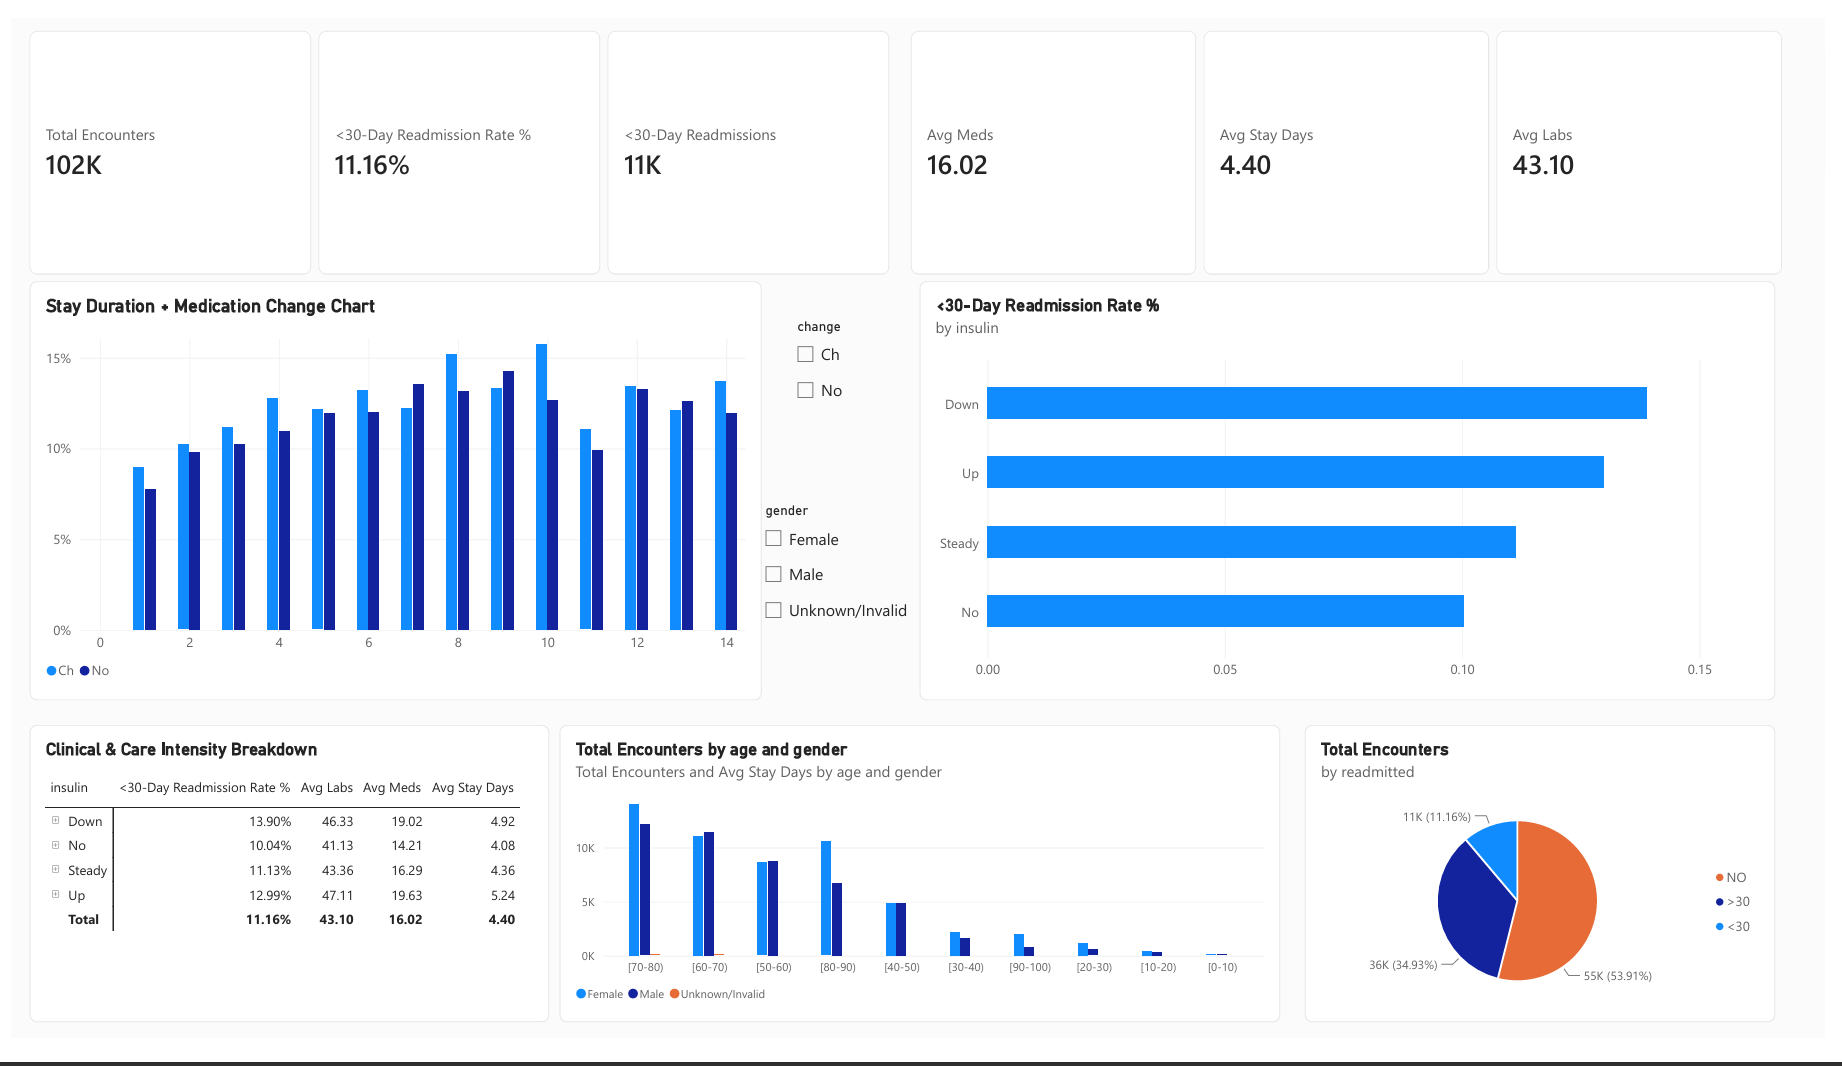

This screenshot's page, from the dashboard's own definition file:
{"tool":"powerbi","page":{"name":"Page 1","canvas":[1920,1080],"ordinal":0},"visuals":[{"type":"cardVisual","fields":{"Data":["vw_hospital_admissions_clean.Total Encounters","vw_hospital_admissions_clean.<30-Day Readmission Rate %","vw_hospital_admissions_clean.<30-Day Readmissions","select"]},"box":[18.8,12.5,910.4,258.3],"z":0},{"type":"cardVisual","fields":{"Data":["vw_hospital_admissions_clean.Avg Meds","vw_hospital_admissions_clean.Avg Stay Days","vw_hospital_admissions_clean.Avg Labs"]},"box":[952.1,12.5,922.9,258.3],"z":1000},{"type":"clusteredColumnChart","title":"Stay Duration + Medication Change Chart","fields":{"Category":["vw_hospital_admissions_clean.time_in_hospital"],"Series":["vw_hospital_admissions_clean.change"],"Y":["vw_hospital_admissions_clean.<30-Day Readmission Rate %"]},"box":[18.5,277.8,775.9,444.4],"z":1001},{"type":"pivotTable","title":"Clinical & Care Intensity Breakdown","fields":{"Rows":["vw_hospital_admissions_clean.insulin","vw_hospital_admissions_clean.A1Cresult"],"Values":["vw_hospital_admissions_clean.<30-Day Readmission Rate %","vw_hospital_admissions_clean.Avg Labs","vw_hospital_admissions_clean.Avg Meds","vw_hospital_admissions_clean.Avg Stay Days"]},"box":[18.5,748.1,550,314.8],"z":1002},{"type":"slicer","fields":{"Values":["vw_hospital_admissions_clean.change"]},"box":[824.2,317.7,104.8,96.8],"z":1003},{"type":"clusteredBarChart","fields":{"Category":["vw_hospital_admissions_clean.insulin"],"Y":["vw_hospital_admissions_clean.<30-Day Readmission Rate %"]},"box":[961.1,277.8,905.6,444.4],"z":1004},{"type":"slicer","fields":{"Values":["vw_hospital_admissions_clean.gender"]},"box":[790.3,512.9,169.4,177.4],"z":1005},{"type":"pieChart","fields":{"Category":["vw_hospital_admissions_clean.readmitted"],"Y":["vw_hospital_admissions_clean.Total Encounters"]},"box":[1368.5,748.1,498.1,314.8],"z":1006},{"type":"clusteredColumnChart","title":"Total Encounters by age and gender","fields":{"Category":["vw_hospital_admissions_clean.age"],"Series":["vw_hospital_admissions_clean.gender"],"Y":["vw_hospital_admissions_clean.Total Encounters"]},"box":[579.6,748.1,763,314.8],"z":1007}]}

Visuals, with their boxes in screenshot pixels (x1, y1, x2, y2), scaled from the page's 1920x1080 canvas onto the 1842x1066 screenshot:
cardVisual - vw_hospital_admissions_clean.Total Encounters x vw_hospital_admissions_clean.<30-Day Readmission Rate %: region(18, 12, 891, 267)
cardVisual - vw_hospital_admissions_clean.Avg Meds x vw_hospital_admissions_clean.Avg Stay Days: region(913, 12, 1799, 267)
"Stay Duration + Medication Change Chart" clusteredColumnChart: region(18, 274, 762, 713)
"Clinical & Care Intensity Breakdown" pivotTable: region(18, 738, 545, 1049)
slicer - vw_hospital_admissions_clean.change: region(791, 314, 891, 409)
clusteredBarChart - vw_hospital_admissions_clean.insulin x vw_hospital_admissions_clean.<30-Day Readmission Rate %: region(922, 274, 1791, 713)
slicer - vw_hospital_admissions_clean.gender: region(758, 506, 921, 681)
pieChart - vw_hospital_admissions_clean.readmitted x vw_hospital_admissions_clean.Total Encounters: region(1313, 738, 1791, 1049)
"Total Encounters by age and gender" clusteredColumnChart: region(556, 738, 1288, 1049)
